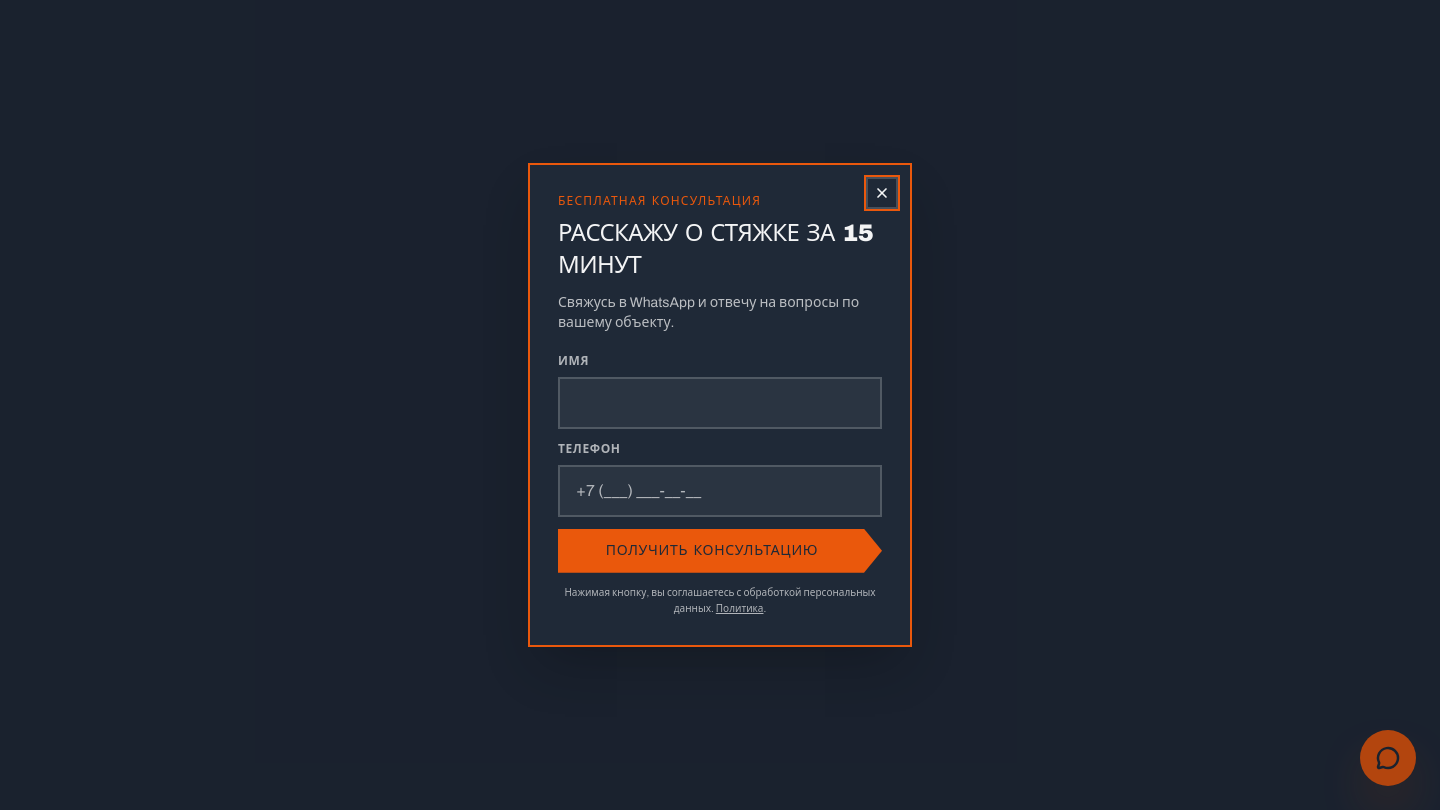
it: ConsultationBanner › opens auto-card at 50% scroll, only once per session
The image size is (1440, 810).
(page scrolled)
Click the 1st button named "закрыть" at (86, 405), box [0,0,1439,809]
(page scrolled)
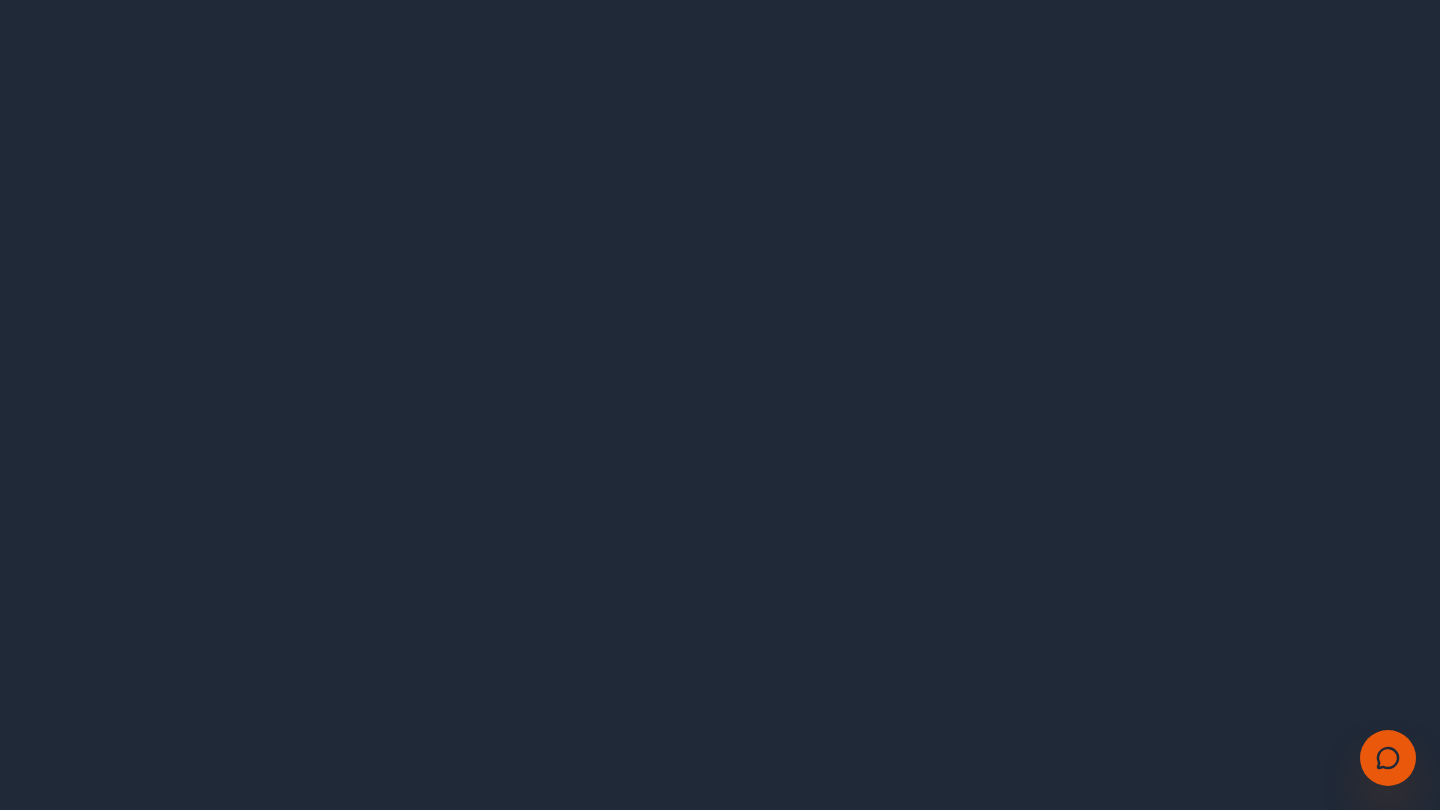
Now the dialog is gone
